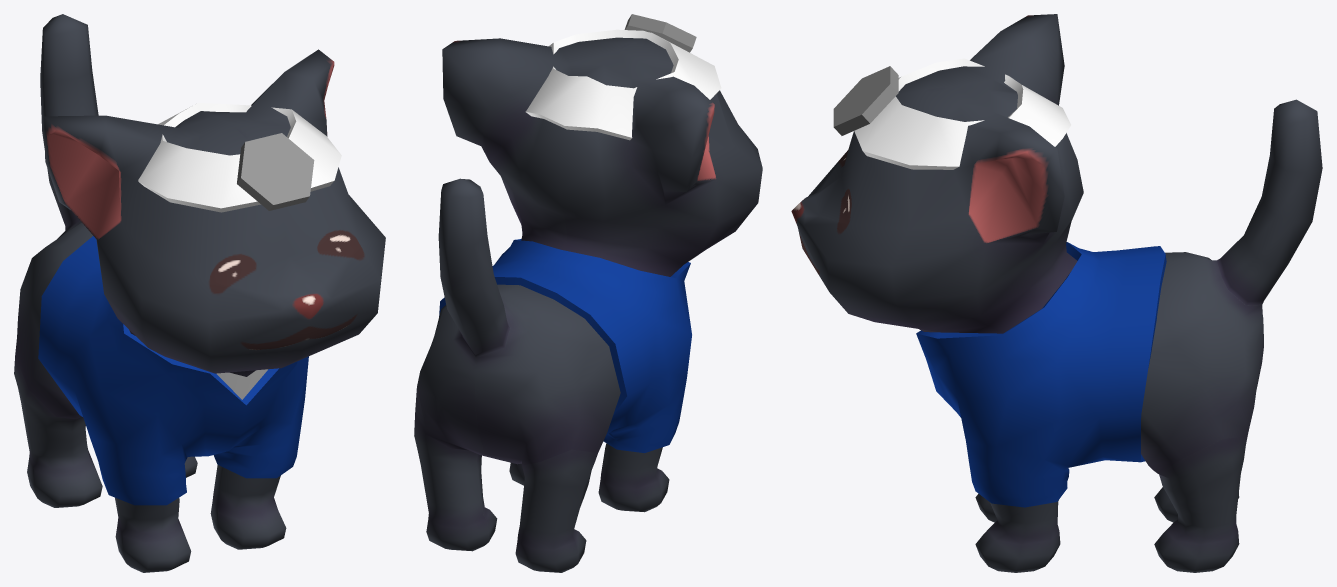
The model's file is Dentist Cat03.fbx.
3 views of the same model, side by side, from view 1: azimuth 30°, elevation 25°; view 2: azimuth 150°, elevation 25°; view 3: azimuth 270°, elevation 25° (orthographic). The views are drawn at different scales.
Parts seen in each view (by area): view 1: Cat_Base002, Dentist_Cat_Scrubs, Dentist_Cat_Headband; view 2: Cat_Base002, Dentist_Cat_Scrubs, Dentist_Cat_Headband; view 3: Cat_Base002, Dentist_Cat_Scrubs, Dentist_Cat_Headband.
Boxes of the visible parts, x1,y1,x2,y2 form: Cat_Base002: [14, 14, 385, 572]; Dentist_Cat_Scrubs: [38, 236, 308, 505]; Dentist_Cat_Headband: [138, 103, 341, 212]; Cat_Base002: [414, 37, 762, 572]; Dentist_Cat_Scrubs: [439, 239, 691, 453]; Dentist_Cat_Headband: [525, 14, 721, 140]; Cat_Base002: [791, 14, 1322, 572]; Dentist_Cat_Scrubs: [916, 242, 1166, 507]; Dentist_Cat_Headband: [833, 58, 1070, 169].
Size of the model in its own units: 1.75 by 2.83 by 2.72.
Materials: 4 (1 with a texture image).
